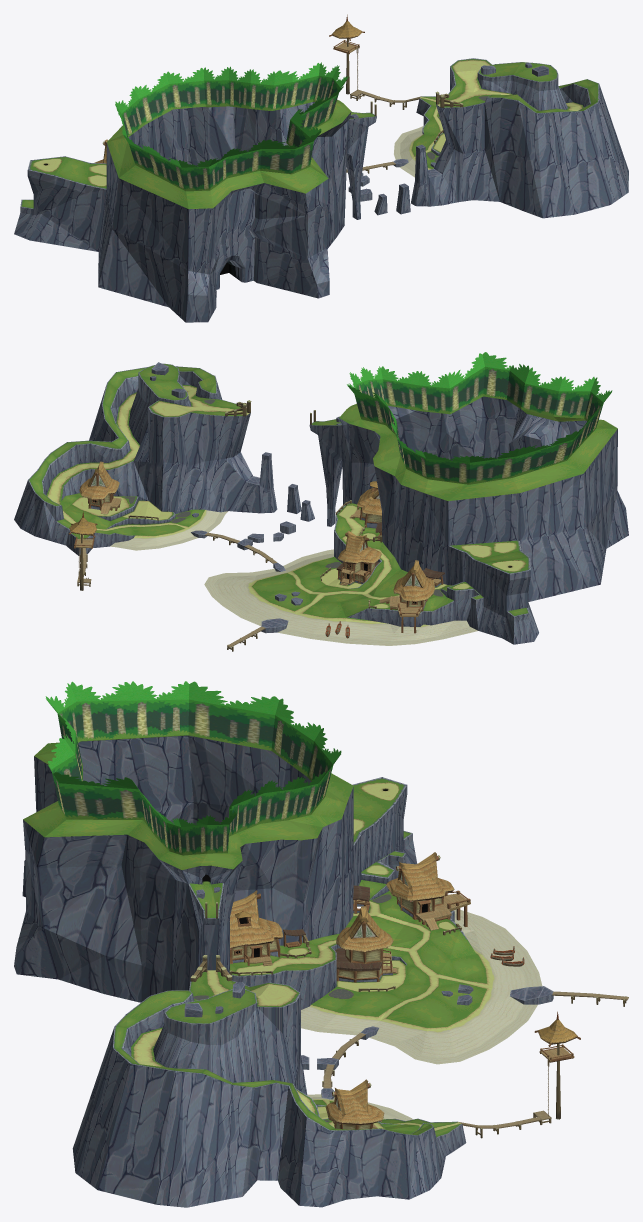
The model's file is Island.obj.
The picture shows the model from 3 angles, top to bottom: view 1: azimuth 30°, elevation 25°; view 2: azimuth 150°, elevation 25°; view 3: azimuth 270°, elevation 25°; orthographic projection. The views are drawn at different scales.
Parts seen in each view (by area): view 1: n5b5, n0b0, n6b6, n4b4, n3b2, n1b1; view 2: n5b5, n6b6, n0b0, n4b4, n1b1, n3b2, n2b3, n7b7; view 3: n5b5, n6b6, n0b0, n4b4, n1b1, n3b2, n2b3.
Part boxes in pixels (bbox=[...]): n5b5: bbox=[14, 67, 628, 322]; n0b0: bbox=[115, 62, 348, 191]; n6b6: bbox=[22, 59, 597, 209]; n4b4: bbox=[14, 58, 599, 281]; n3b2: bbox=[335, 39, 463, 173]; n1b1: bbox=[94, 14, 362, 163]; n5b5: bbox=[14, 381, 628, 644]; n6b6: bbox=[30, 364, 617, 645]; n0b0: bbox=[347, 352, 612, 484]; n4b4: bbox=[28, 362, 533, 644]; n1b1: bbox=[69, 461, 434, 603]; n3b2: bbox=[76, 400, 444, 651]; n2b3: bbox=[68, 472, 443, 638]; n7b7: bbox=[121, 398, 446, 597]; n5b5: bbox=[14, 735, 441, 1207]; n6b6: bbox=[23, 735, 542, 1136]; n0b0: bbox=[45, 681, 341, 855]; n4b4: bbox=[113, 777, 553, 1177]; n1b1: bbox=[230, 852, 577, 1124]; n3b2: bbox=[190, 885, 628, 1138]; n2b3: bbox=[230, 855, 580, 1129].
Size of the model in its own units: 19408 by 5574 by 14496.
